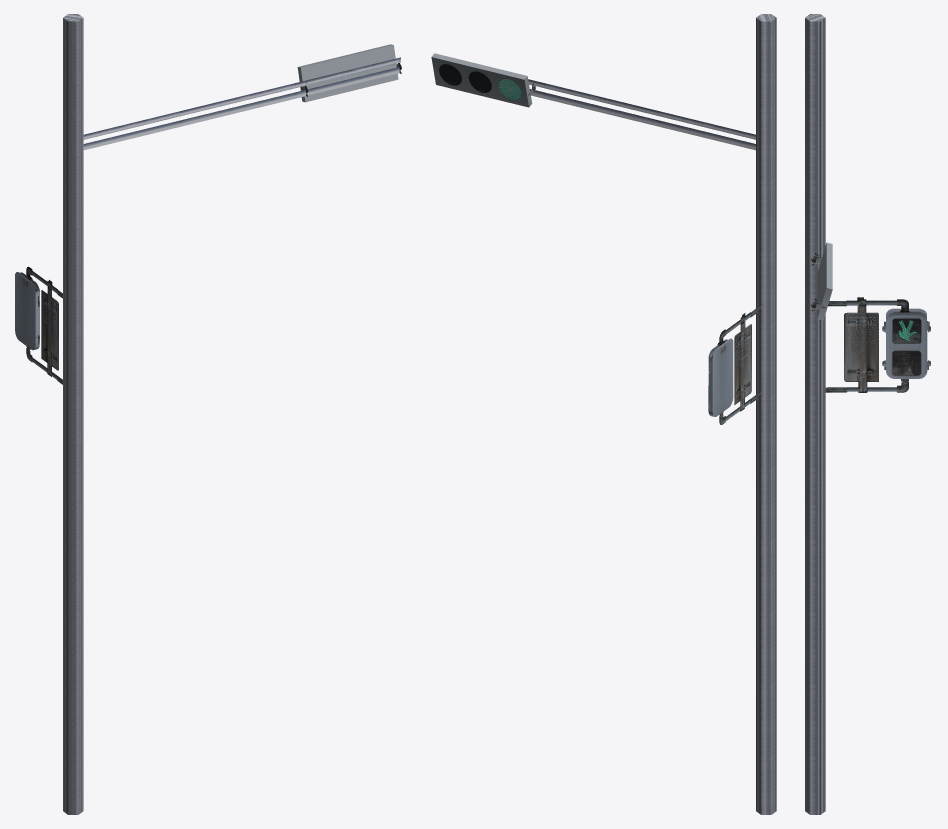
The model's file is Signal.obj.
3 renders of one model, left to right at view 1: azimuth 30°, elevation 25°; view 2: azimuth 150°, elevation 25°; view 3: azimuth 270°, elevation 25°, orthographic.
Size of the model in its own units: 3.58 by 8.1 by 1.19.
Materials: 12 (12 with a texture image).
